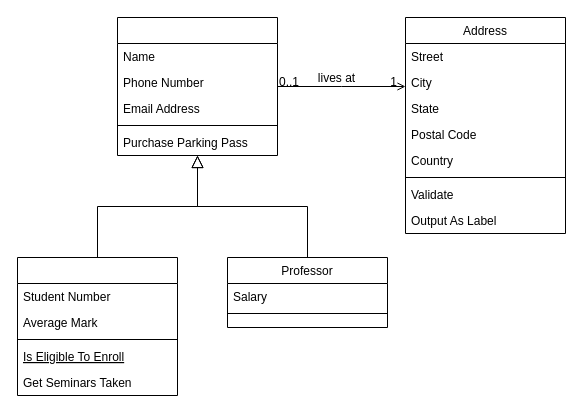
The diagram is 583 pixels wide and 416 high, and some of its shapes have lost their labels. Each missing label, with the box of its shape:
Book: (116, 16, 278, 156)
Library: (16, 256, 178, 396)
